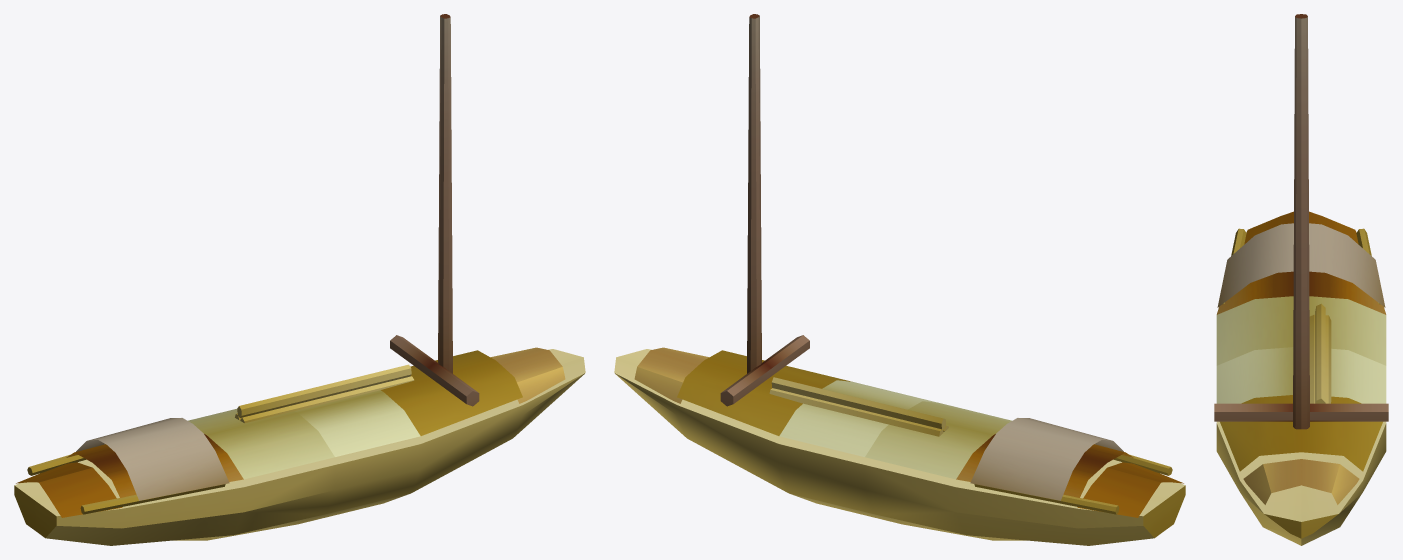
The model's file is SM_Boat_01.fbx.
3 views of the same model, side by side, from view 1: azimuth 30°, elevation 25°; view 2: azimuth 150°, elevation 25°; view 3: azimuth 270°, elevation 25° (orthographic). The views are drawn at different scales.
Visible parts, largest first — view 1: SM_Boat_01; view 2: SM_Boat_01; view 3: SM_Boat_01.
Part boxes in pixels (left/top/right/bottom): SM_Boat_01: left=14, top=14, right=585, bottom=545; SM_Boat_01: left=614, top=14, right=1185, bottom=545; SM_Boat_01: left=1214, top=14, right=1388, bottom=545.
Bounding box in the file's own units: 9.09 × 7.48 × 2.19.
